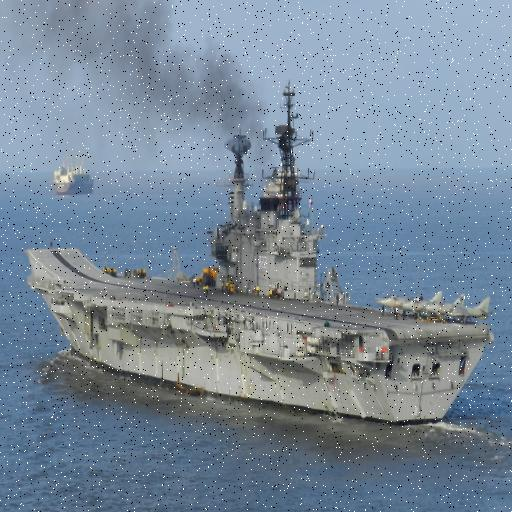Portanaves: (24, 75, 497, 432)
